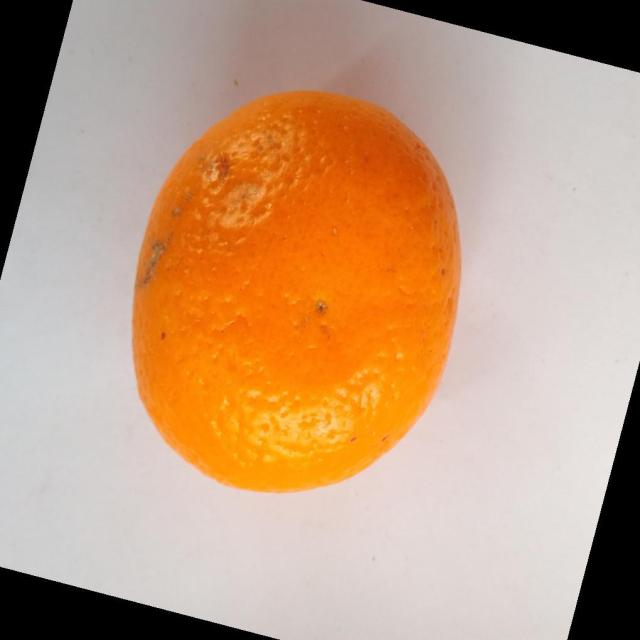fresh orange: (130, 88, 462, 494)
